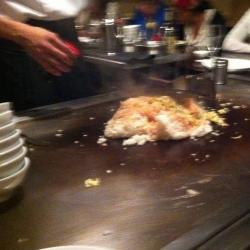omelette: (102, 89, 229, 157)
